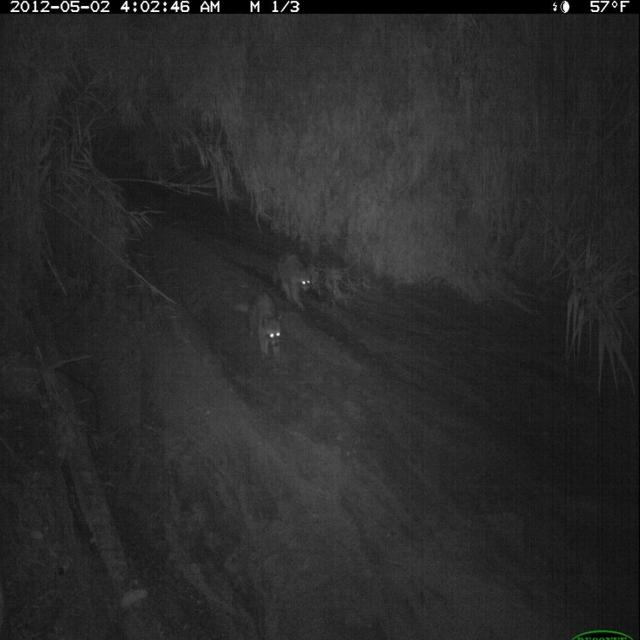raccoon: (236, 285, 288, 369), (269, 248, 317, 317)
